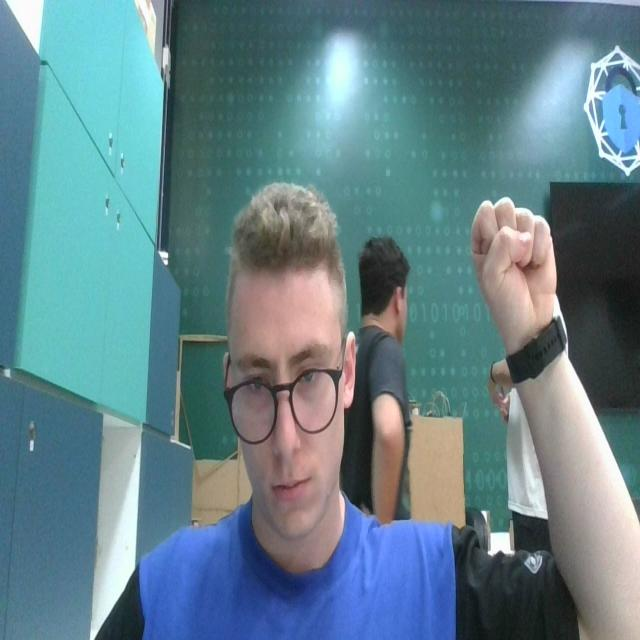S: (466, 194, 562, 329)
